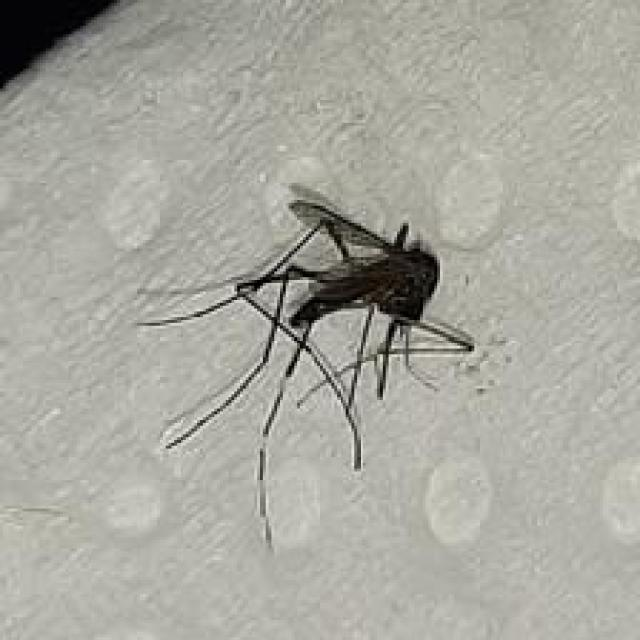Aedes albopictus: (133, 196, 476, 550)
